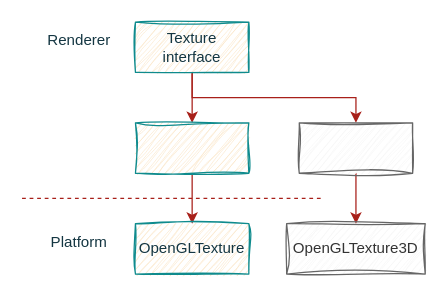
This 447x296 diagram has some shape labels left out. Each missing label, with the centre of its shape:
Texture2D: the point at 191,147
Texture3D: the point at 355,147
